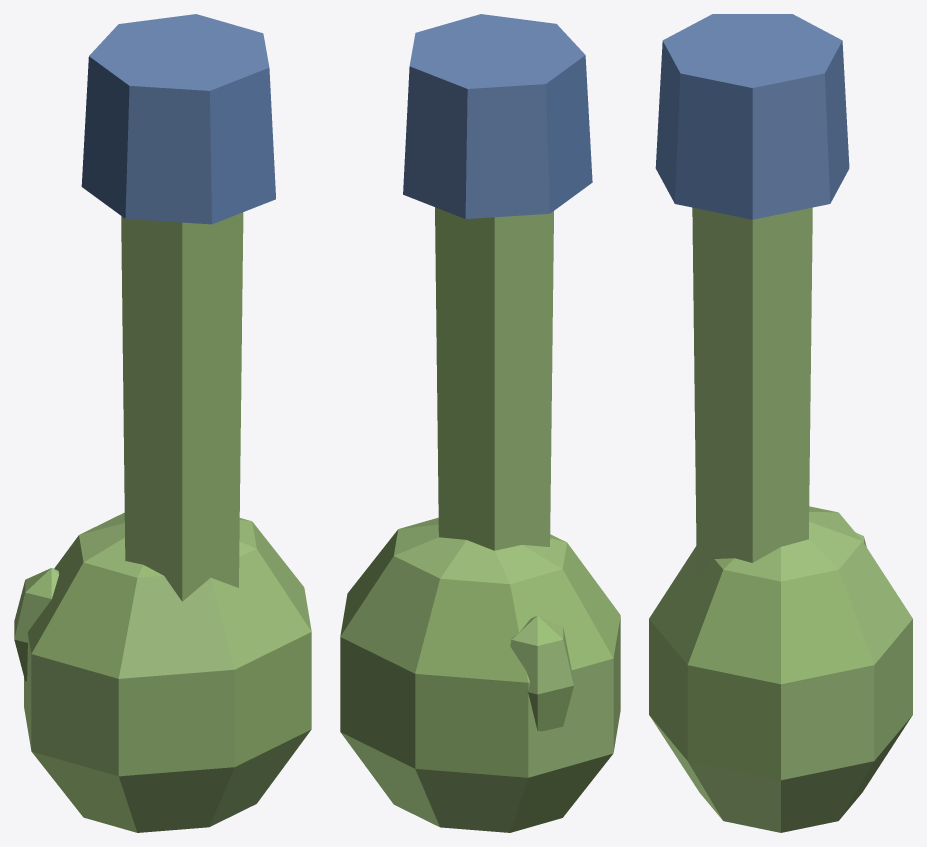
The model's file is arm_r.glb.
The picture shows the model from 3 angles, left to right: view 1: azimuth 30°, elevation 25°; view 2: azimuth 150°, elevation 25°; view 3: azimuth 270°, elevation 25°; orthographic projection. The views are drawn at different scales.
Parts seen in each view (by area): view 1: arm_r2; view 2: arm_r2; view 3: arm_r2.
Boxes of the visible parts, x1,y1,x2,y2 form: arm_r2: [14, 14, 311, 832]; arm_r2: [340, 14, 620, 832]; arm_r2: [649, 14, 912, 832].
Bounding box in the file's own units: 0.2187 × 0.6007 × 0.1859.
